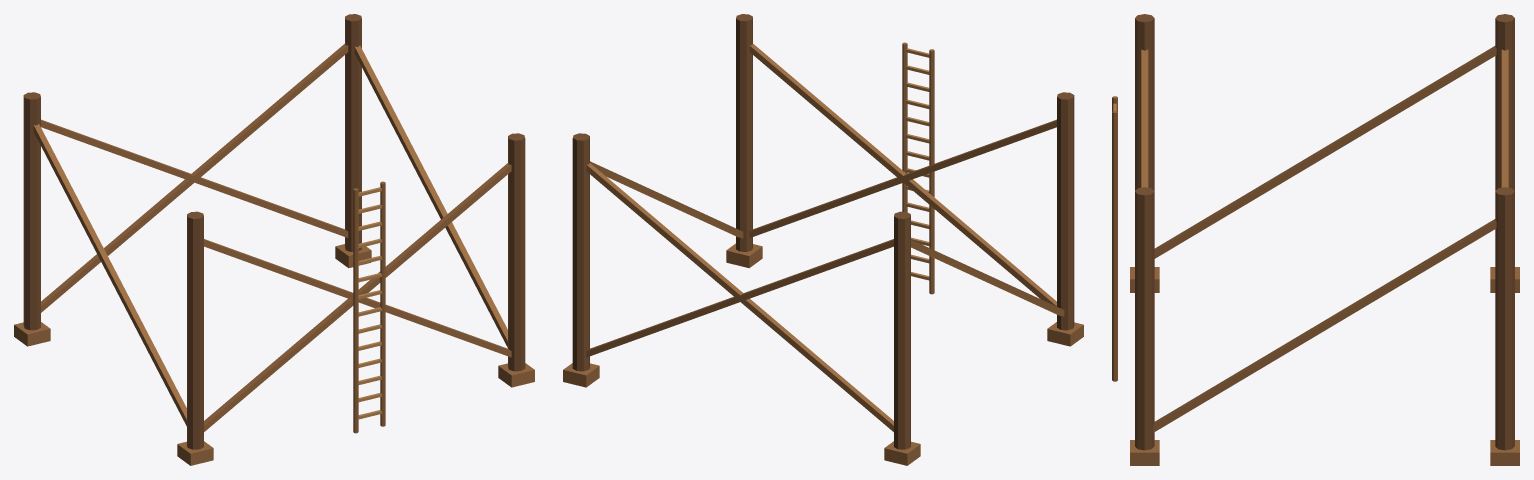
The model's file is deck-stilts.glb.
3 views of the same model, side by side, from view 1: azimuth 30°, elevation 25°; view 2: azimuth 150°, elevation 25°; view 3: azimuth 270°, elevation 25° (orthographic). The views are drawn at different scales.
Parts seen in each view (by area): view 1: deck-stilts; view 2: deck-stilts; view 3: deck-stilts.
Boxes of the visible parts, box(x1,y1,x2,y2) form: deck-stilts: box(14, 14, 534, 465); deck-stilts: box(563, 14, 1083, 465); deck-stilts: box(1112, 14, 1519, 465).
Size of the model in its own units: 8.9 by 6 by 8.26.
